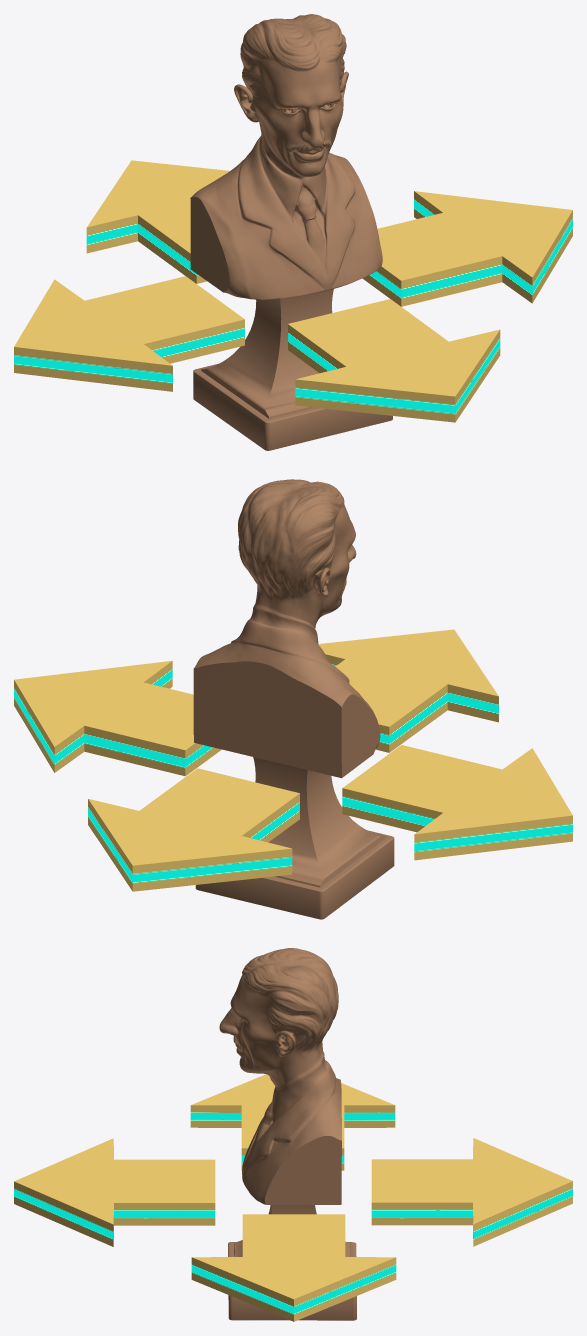
The model's file is Tesla_character.glb.
The picture shows the model from 3 angles, top to bottom: view 1: azimuth 30°, elevation 25°; view 2: azimuth 150°, elevation 25°; view 3: azimuth 270°, elevation 25°; orthographic projection. The views are drawn at different scales.
Parts seen in each view (by area): view 1: Object_2.001, back, left, right, front; view 2: Object_2.001, front, left, right, back; view 3: Object_2.001, right, back, front, left.
Boxes of the visible parts, x1,y1,x2,y2 form: Object_2.001: (190,14,392,450); back: (288,299,500,422); left: (14,276,244,391); right: (362,191,572,306); front: (86,160,229,283); Object_2.001: (193,479,394,919); front: (88,768,299,891); left: (342,745,572,860); right: (14,660,221,776); back: (318,629,498,752); Object_2.001: (219,948,356,1320); right: (191,1214,396,1321); back: (14,1138,215,1246); front: (371,1138,572,1246); left: (190,1074,395,1170).
Bounding box in the file's own units: 3.59 × 2.38 × 3.59.
Materials: 2 (2 with a texture image).
